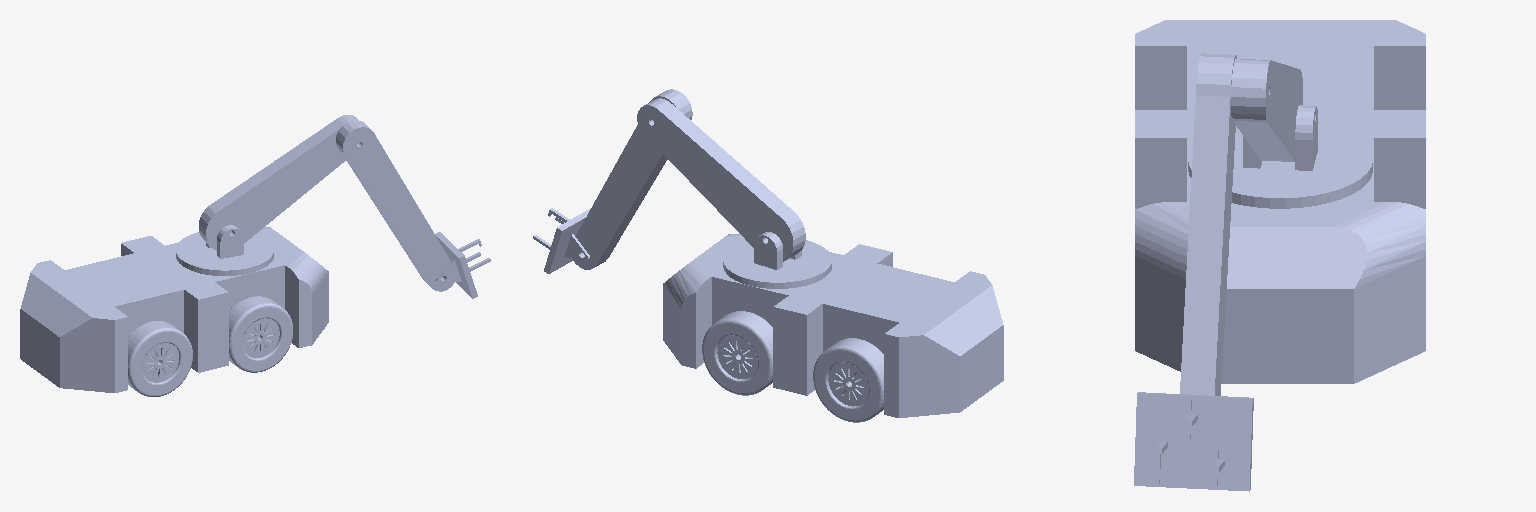
URDF robot description (robo_des):
<?xml version="1.0" encoding="utf-8"?>
<!-- This URDF was automatically created by SolidWorks to URDF Exporter! Originally created by [author] ([email redacted]) 
     Commit Version:   Build Version: 1.5.7914.27669
     For more information, please see http://wiki.ros.org/sw_urdf_exporter -->
<robot
  name="robo_des">
  <link
    name="base_link">
    <inertial>
      <origin
        xyz="-0.0941114317421856 0.12499996216618 0.0936537243105501"
        rpy="0 0 0" />
      <mass
        value="10.8186111971892" />
      <inertia
        ixx="0.0424810478346352"
        ixy="1.75690865925084E-07"
        ixz="0.000155619703380291"
        iyy="0.230346722117826"
        iyz="-3.1840512594254E-08"
        izz="0.264657309040771" />
    </inertial>
    <visual>
      <origin
        xyz="0 0 0"
        rpy="0 0 0" />
      <geometry>
        <mesh
          filename="package://robo_des/meshes/base_link.STL" />
      </geometry>
      <material
        name="">
        <color
          rgba="0.792156862745098 0.819607843137255 0.933333333333333 1" />
      </material>
    </visual>
    <collision>
      <origin
        xyz="0 0 0"
        rpy="0 0 0" />
      <geometry>
        <mesh
          filename="package://robo_des/meshes/base_link.STL" />
      </geometry>
    </collision>
  </link>
  <link
    name="frw">
    <inertial>
      <origin
        xyz="-0.0207301827068018 -4.16333634234434E-17 2.19369939886568E-16"
        rpy="0 0 0" />
      <mass
        value="0.411963029786123" />
      <inertia
        ixx="0.000782944022280858"
        ixy="3.22567695491717E-20"
        ixz="4.80202519177703E-22"
        iyy="0.00044224300953557"
        iyz="4.9023375990838E-20"
        izz="0.00044224300953557" />
    </inertial>
    <visual>
      <origin
        xyz="0 0 0"
        rpy="0 0 0" />
      <geometry>
        <mesh
          filename="package://robo_des/meshes/frw.STL" />
      </geometry>
      <material
        name="">
        <color
          rgba="0.792156862745098 0.819607843137255 0.933333333333333 1" />
      </material>
    </visual>
    <collision>
      <origin
        xyz="0 0 0"
        rpy="0 0 0" />
      <geometry>
        <mesh
          filename="package://robo_des/meshes/frw.STL" />
      </geometry>
    </collision>
  </link>
  <joint
    name="frwj"
    type="continuous">
    <origin
      xyz="0 0.005 0.06"
      rpy="1.5708 0 -1.5708" />
    <parent
      link="base_link" />
    <child
      link="frw" />
    <axis
      xyz="1 0 0" />
    <limit
      effort="1"
      velocity="10" />
  </joint>
  <link
    name="flw">
    <inertial>
      <origin
        xyz="0.0192698172931982 -6.93889390390723E-18 1.2490009027033E-16"
        rpy="0 0 0" />
      <mass
        value="0.411963029786123" />
      <inertia
        ixx="0.000782944022280859"
        ixy="2.682965940328E-21"
        ixz="9.57146513047092E-21"
        iyy="0.00044224300953557"
        iyz="-1.35525271560688E-20"
        izz="0.00044224300953557" />
    </inertial>
    <visual>
      <origin
        xyz="0 0 0"
        rpy="0 0 0" />
      <geometry>
        <mesh
          filename="package://robo_des/meshes/flw.STL" />
      </geometry>
      <material
        name="">
        <color
          rgba="0.792156862745098 0.819607843137255 0.933333333333333 1" />
      </material>
    </visual>
    <collision>
      <origin
        xyz="0 0 0"
        rpy="0 0 0" />
      <geometry>
        <mesh
          filename="package://robo_des/meshes/flw.STL" />
      </geometry>
    </collision>
  </link>
  <joint
    name="flwj"
    type="continuous">
    <origin
      xyz="0 0.205 0.06"
      rpy="-1.9639 0 1.5708" />
    <parent
      link="base_link" />
    <child
      link="flw" />
    <axis
      xyz="1 0 0" />
    <limit
      effort="1"
      velocity="10" />
  </joint>
  <link
    name="brw">
    <inertial>
      <origin
        xyz="-0.0207301827068018 -2.77555756156289E-17 8.32667268468867E-17"
        rpy="0 0 0" />
      <mass
        value="0.411963029786123" />
      <inertia
        ixx="0.000782944022280858"
        ixy="-1.17964095048409E-20"
        ixz="-3.14969667795639E-21"
        iyy="0.00044224300953557"
        iyz="-5.42101086242752E-20"
        izz="0.00044224300953557" />
    </inertial>
    <visual>
      <origin
        xyz="0 0 0"
        rpy="0 0 0" />
      <geometry>
        <mesh
          filename="package://robo_des/meshes/brw.STL" />
      </geometry>
      <material
        name="">
        <color
          rgba="0.792156862745098 0.819607843137255 0.933333333333333 1" />
      </material>
    </visual>
    <collision>
      <origin
        xyz="0 0 0"
        rpy="0 0 0" />
      <geometry>
        <mesh
          filename="package://robo_des/meshes/brw.STL" />
      </geometry>
    </collision>
  </link>
  <joint
    name="brwj"
    type="continuous">
    <origin
      xyz="-0.18651 0.005 0.06"
      rpy="1.9639 0 -1.5708" />
    <parent
      link="base_link" />
    <child
      link="brw" />
    <axis
      xyz="1 0 0" />
    <limit
      effort="1"
      velocity="10" />
  </joint>
  <link
    name="blw">
    <inertial>
      <origin
        xyz="0.0192698172931982 -3.46944695195361E-17 5.55111512312578E-17"
        rpy="0 0 0" />
      <mass
        value="0.411963029786123" />
      <inertia
        ixx="0.000782944022280859"
        ixy="-1.47511735909001E-20"
        ixz="2.81838457418552E-21"
        iyy="0.000442243009535571"
        iyz="0"
        izz="0.000442243009535571" />
    </inertial>
    <visual>
      <origin
        xyz="0 0 0"
        rpy="0 0 0" />
      <geometry>
        <mesh
          filename="package://robo_des/meshes/blw.STL" />
      </geometry>
      <material
        name="">
        <color
          rgba="0.792156862745098 0.819607843137255 0.933333333333333 1" />
      </material>
    </visual>
    <collision>
      <origin
        xyz="0 0 0"
        rpy="0 0 0" />
      <geometry>
        <mesh
          filename="package://robo_des/meshes/blw.STL" />
      </geometry>
    </collision>
  </link>
  <joint
    name="blwj"
    type="continuous">
    <origin
      xyz="-0.18651 0.205 0.06"
      rpy="2.1066 0 1.5708" />
    <parent
      link="base_link" />
    <child
      link="blw" />
    <axis
      xyz="1 0 0" />
    <limit
      effort="1"
      velocity="10" />
  </joint>
  <link
    name="arm1">
    <inertial>
      <origin
        xyz="-8.32667268468867E-17 0.0125651013239148 1.83880688453542E-16"
        rpy="0 0 0" />
      <mass
        value="0.260678745840163" />
      <inertia
        ixx="0.000367567244144259"
        ixy="-7.91105866069516E-21"
        ixz="1.70193991381726E-06"
        iyy="0.000668095783252644"
        iyz="-6.13008665353642E-21"
        izz="0.000388501341808732" />
    </inertial>
    <visual>
      <origin
        xyz="0 0 0"
        rpy="0 0 0" />
      <geometry>
        <mesh
          filename="package://robo_des/meshes/arm1.STL" />
      </geometry>
      <material
        name="">
        <color
          rgba="0.792156862745098 0.819607843137255 0.933333333333333 1" />
      </material>
    </visual>
    <collision>
      <origin
        xyz="0 0 0"
        rpy="0 0 0" />
      <geometry>
        <mesh
          filename="package://robo_des/meshes/arm1.STL" />
      </geometry>
    </collision>
  </link>
  <joint
    name="arm1j"
    type="revolute">
    <origin
      xyz="0 0.125 0.158"
      rpy="1.5708 0 1.3762" />
    <parent
      link="base_link" />
    <child
      link="arm1" />
    <axis
      xyz="0 1 0" />
    <limit
      lower="0"
      upper="0"
      effort="0"
      velocity="0" />
  </joint>
  <link
    name="arm2">
    <inertial>
      <origin
        xyz="0.0868289642143716 0.00757022498922039 0.0641432852254428"
        rpy="0 0 0" />
      <mass
        value="0.604646346232966" />
      <inertia
        ixx="0.00180448221745263"
        ixy="-0.000255586152172797"
        ixz="-0.00204177114381514"
        iyy="0.00472836930815643"
        iyz="-0.000179741625453843"
        izz="0.00305897976381428" />
    </inertial>
    <visual>
      <origin
        xyz="0 0 0"
        rpy="0 0 0" />
      <geometry>
        <mesh
          filename="package://robo_des/meshes/arm2.STL" />
      </geometry>
      <material
        name="">
        <color
          rgba="0.792156862745098 0.819607843137255 0.933333333333333 1" />
      </material>
    </visual>
    <collision>
      <origin
        xyz="0 0 0"
        rpy="0 0 0" />
      <geometry>
        <mesh
          filename="package://robo_des/meshes/arm2.STL" />
      </geometry>
    </collision>
  </link>
  <joint
    name="arm2j"
    type="revolute">
    <origin
      xyz="0 0.054 0"
      rpy="0 -1.4537 -1.5708" />
    <parent
      link="arm1" />
    <child
      link="arm2" />
    <axis
      xyz="0 1 0" />
    <limit
      lower="0"
      upper="0"
      effort="0"
      velocity="0" />
  </joint>
  <link
    name="arm3">
    <inertial>
      <origin
        xyz="0.00925514369763676 -0.0287655715452404 -0.0386970474727479"
        rpy="0 0 0" />
      <mass
        value="0.552909154525419" />
      <inertia
        ixx="0.0055244104411537"
        ixy="-0.000176837948922624"
        ixz="0.000109764492707216"
        iyy="0.00150189712133316"
        iyz="0.00228028388294832"
        izz="0.00412253659922397" />
    </inertial>
    <visual>
      <origin
        xyz="0 0 0"
        rpy="0 0 0" />
      <geometry>
        <mesh
          filename="package://robo_des/meshes/arm3.STL" />
      </geometry>
      <material
        name="">
        <color
          rgba="0.792156862745098 0.819607843137255 0.933333333333333 1" />
      </material>
    </visual>
    <collision>
      <origin
        xyz="0 0 0"
        rpy="0 0 0" />
      <geometry>
        <mesh
          filename="package://robo_des/meshes/arm3.STL" />
      </geometry>
    </collision>
  </link>
  <joint
    name="arm3j"
    type="revolute">
    <origin
      xyz="0.25 -0.016122 0"
      rpy="-1.6655 0 1.5708" />
    <parent
      link="arm2" />
    <child
      link="arm3" />
    <axis
      xyz="1 0 0" />
    <limit
      lower="0"
      upper="0"
      effort="0"
      velocity="0" />
  </joint>
  <link
    name="arm4">
    <inertial>
      <origin
        xyz="-0.177958843756028 0.0176755083711491 -0.0398459877299372"
        rpy="0 0 0" />
      <mass
        value="0.0848386700528806" />
      <inertia
        ixx="0.00010678874977503"
        ixy="4.8995620620725E-06"
        ixz="-7.06039245576564E-07"
        iyy="4.34991020110427E-05"
        iyz="-6.55613773533483E-07"
        izz="6.67432131662634E-05" />
    </inertial>
    <visual>
      <origin
        xyz="0 0 0"
        rpy="0 0 0" />
      <geometry>
        <mesh
          filename="package://robo_des/meshes/arm4.STL" />
      </geometry>
      <material
        name="">
        <color
          rgba="0.792156862745098 0.819607843137255 0.933333333333333 1" />
      </material>
    </visual>
    <collision>
      <origin
        xyz="0 0 0"
        rpy="0 0 0" />
      <geometry>
        <mesh
          filename="package://robo_des/meshes/arm4.STL" />
      </geometry>
    </collision>
  </link>
  <joint
    name="arm4j"
    type="revolute">
    <origin
      xyz="0 0 -0.3"
      rpy="0 1.2279 -1.5708" />
    <parent
      link="arm3" />
    <child
      link="arm4" />
    <axis
      xyz="0 1 0" />
    <limit
      lower="0"
      upper="0"
      effort="0"
      velocity="0" />
  </joint>
  <link
    name="grip1">
    <inertial>
      <origin
        xyz="-0.030239730924035 -0.181087131334586 -0.0191324261700389"
        rpy="0 0 0" />
      <mass
        value="0.00161718259427537" />
      <inertia
        ixx="3.77628834062901E-07"
        ixy="2.85126710537669E-08"
        ixz="-1.68676948564536E-09"
        iyy="1.48807158687113E-08"
        iyz="2.10254286858737E-08"
        izz="3.7690839215755E-07" />
    </inertial>
    <visual>
      <origin
        xyz="0 0 0"
        rpy="0 0 0" />
      <geometry>
        <mesh
          filename="package://robo_des/meshes/grip1.STL" />
      </geometry>
      <material
        name="">
        <color
          rgba="0.792156862745098 0.819607843137255 0.933333333333333 1" />
      </material>
    </visual>
    <collision>
      <origin
        xyz="0 0 0"
        rpy="0 0 0" />
      <geometry>
        <mesh
          filename="package://robo_des/meshes/grip1.STL" />
      </geometry>
    </collision>
  </link>
  <joint
    name="grip1j"
    type="prismatic">
    <origin
      xyz="0.032 -0.010878 0"
      rpy="0 0 -1.5708" />
    <parent
      link="arm4" />
    <child
      link="grip1" />
    <axis
      xyz="0 0 1" />
    <limit
      lower="0"
      upper="0"
      effort="0"
      velocity="0" />
  </joint>
  <link
    name="grip2">
    <inertial>
      <origin
        xyz="0.0618509546686359 -0.183380463199259 0.0475657504774316"
        rpy="0 0 0" />
      <mass
        value="0.003" />
      <inertia
        ixx="6.27612750588233E-07"
        ixy="-4.71987803351453E-08"
        ixz="-7.53855923637841E-10"
        iyy="1.90745035117878E-08"
        iyz="-1.068504613518E-08"
        izz="6.33812745899979E-07" />
    </inertial>
    <visual>
      <origin
        xyz="0 0 0"
        rpy="0 0 0" />
      <geometry>
        <mesh
          filename="package://robo_des/meshes/grip2.STL" />
      </geometry>
      <material
        name="">
        <color
          rgba="0.792156862745098 0.819607843137255 0.933333333333333 1" />
      </material>
    </visual>
    <collision>
      <origin
        xyz="0 0 0"
        rpy="0 0 0" />
      <geometry>
        <mesh
          filename="package://robo_des/meshes/grip2.STL" />
      </geometry>
    </collision>
  </link>
  <joint
    name="grip2j"
    type="prismatic">
    <origin
      xyz="0.032 -0.041878 -0.0024937"
      rpy="3.1416 0 1.5708" />
    <parent
      link="arm4" />
    <child
      link="grip2" />
    <axis
      xyz="0 0 1" />
    <limit
      lower="0"
      upper="0"
      effort="0"
      velocity="0" />
  </joint>
</robot>

--- Facts derived from the render (not from the file) ---
Views: 3 orthographic renders of the robot side by side, from view 1: azimuth 30°, elevation 25°; view 2: azimuth 150°, elevation 25°; view 3: azimuth 270°, elevation 25°.
Model robo_des with 11 links and 10 joints (4 revolute, 4 continuous, 2 prismatic), rooted at base_link, posed every joint at zero.
Visible links, largest first — view 1: base_link, arm2, arm3, brw, frw, arm1, arm4; view 2: base_link, arm2, arm3, blw, flw, arm1, arm4; view 3: base_link, arm3, arm4, arm1, arm2.
Boxes of the visible links, x1,y1,x2,y2 form: base_link: (20,226,328,392); arm2: (199,115,357,250); arm3: (336,120,454,291); brw: (128,321,192,396); frw: (229,296,292,372); arm1: (176,225,273,275); arm4: (435,232,477,298); base_link: (663,233,1003,417); arm2: (637,98,805,261); arm3: (572,89,692,269); blw: (813,338,883,422); flw: (702,311,772,395); arm1: (723,232,831,288); arm4: (544,208,590,273); base_link: (1135,20,1425,383); arm3: (1180,53,1236,395); arm4: (1134,392,1253,491); arm1: (1188,105,1372,208); arm2: (1231,59,1302,161).
Bounding box of the posed robot: 0.7859 × 0.251 × 0.3657 m (x, y, z).
11 mesh visuals loaded from 11 distinct referenced files (11 binary STL).